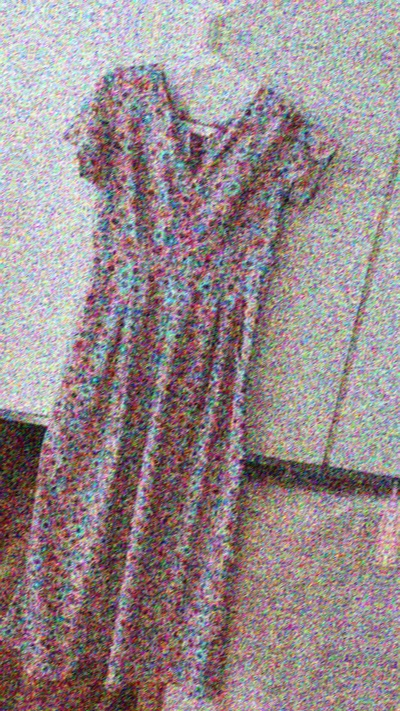Dress: (0, 33, 348, 711), (63, 0, 400, 30), (0, 0, 11, 672)
